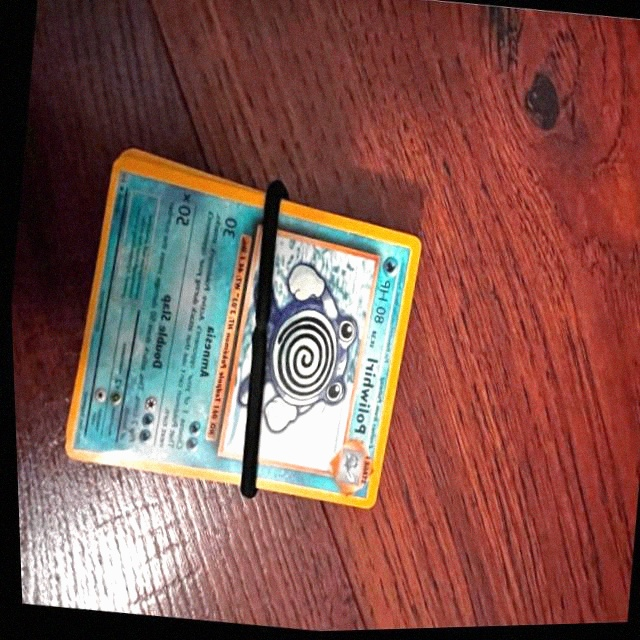card: (61, 153, 421, 510)
